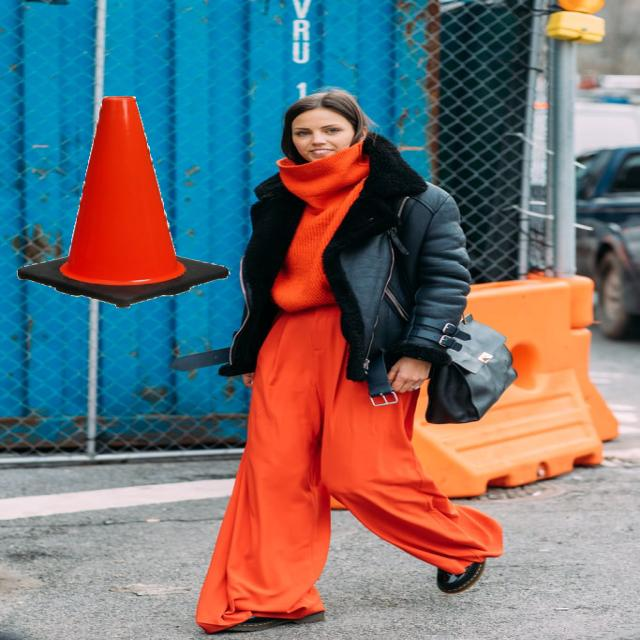traffic cone: (9, 91, 232, 312)
